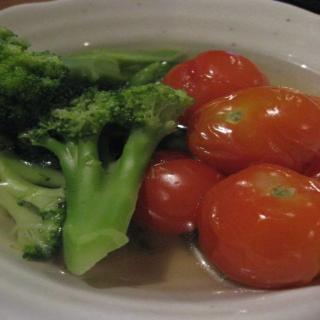tomato: (197, 163, 319, 288), (183, 85, 319, 176), (160, 49, 268, 120), (134, 146, 220, 233)
